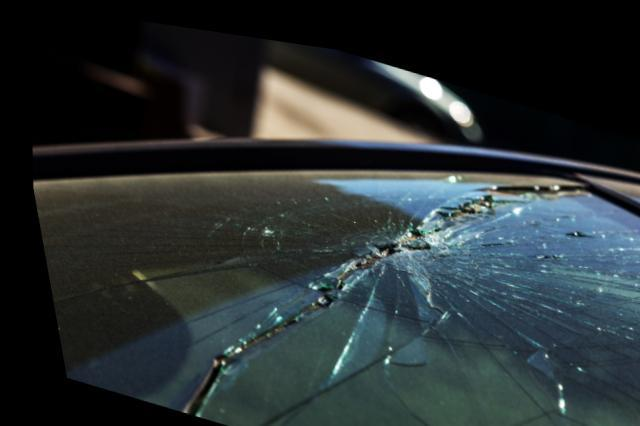glass shatter: (26, 158, 640, 426)
